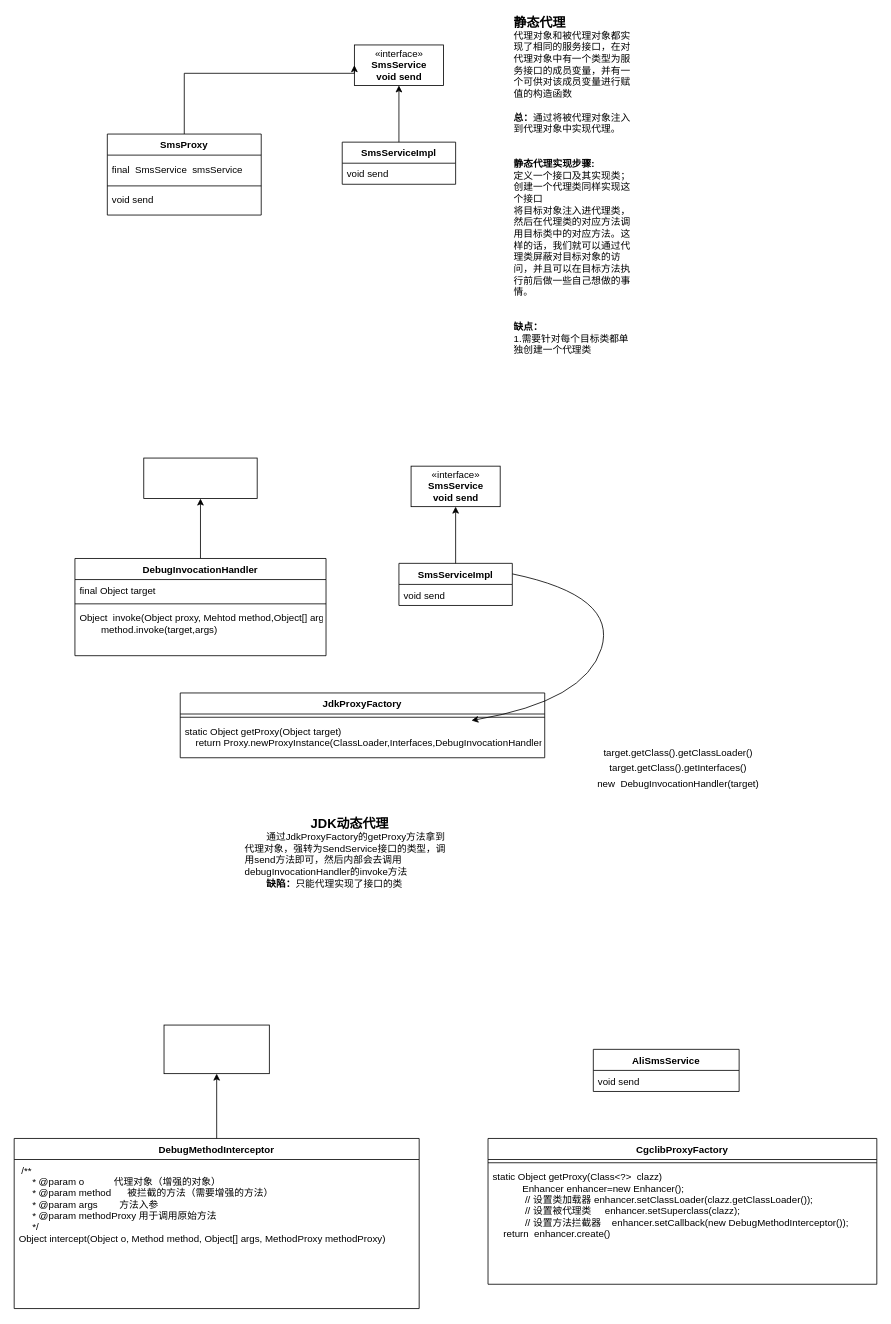
Some shapes in this 891 by 1324 pixel diagram are drawn without their labels. The centre of each missing label's shape, as x and y in pixels:
"«interface» InvocationHandler" goes at point 200,478.
"«interface» MethodInterceptor" goes at point 216,1049.
